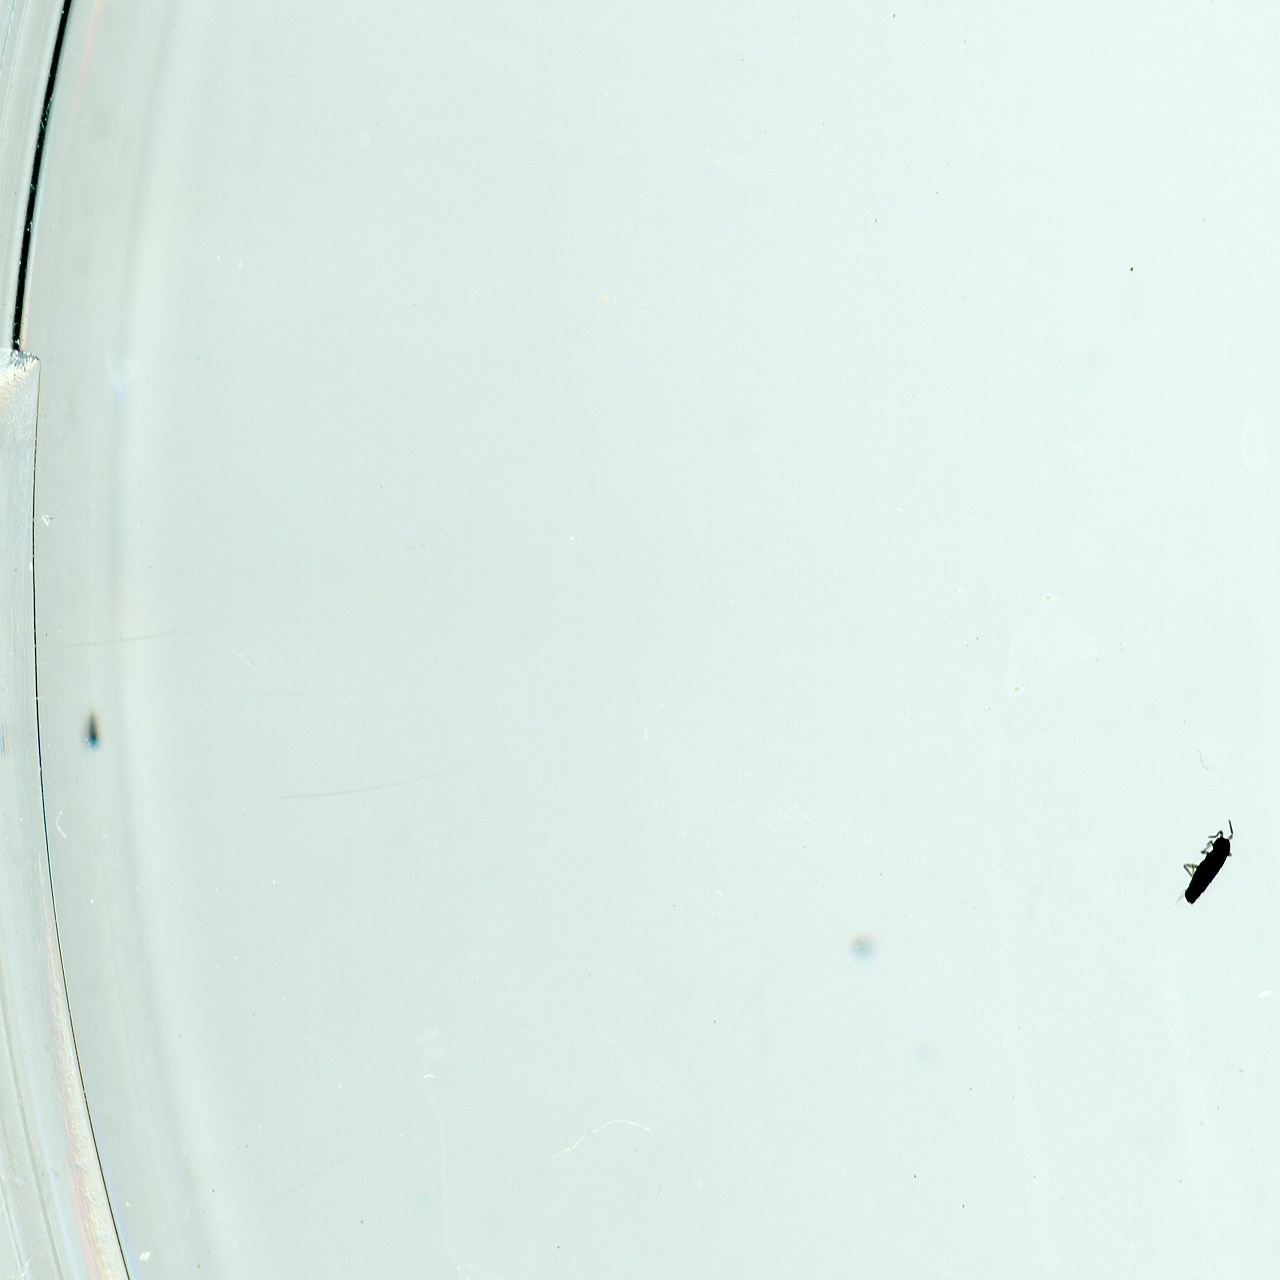arthropod: (1156, 796, 1258, 935)
